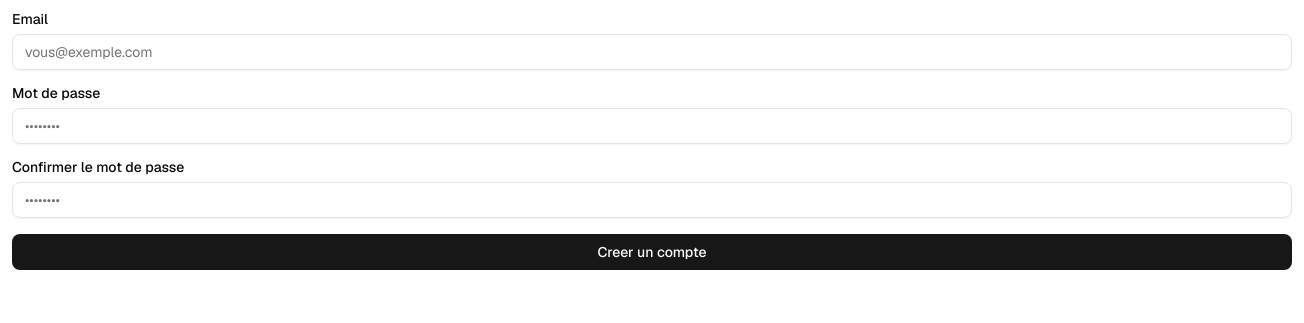
it: RegisterForm › displays error when sign up succeeds but auto-login fails
This screenshot has width=1304, height=323.
Type "test@example.com" into the field labelled "Email".
click(652, 52); type("test@example.com")  # box [12, 34, 1292, 70]
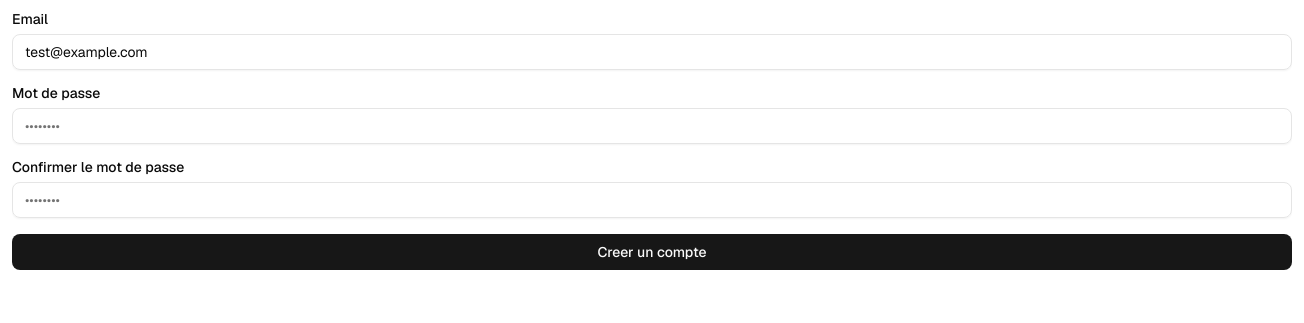
Type "password123" into the password field labelled "Mot de passe".
click(652, 126); type("password123")  # box [12, 108, 1292, 144]
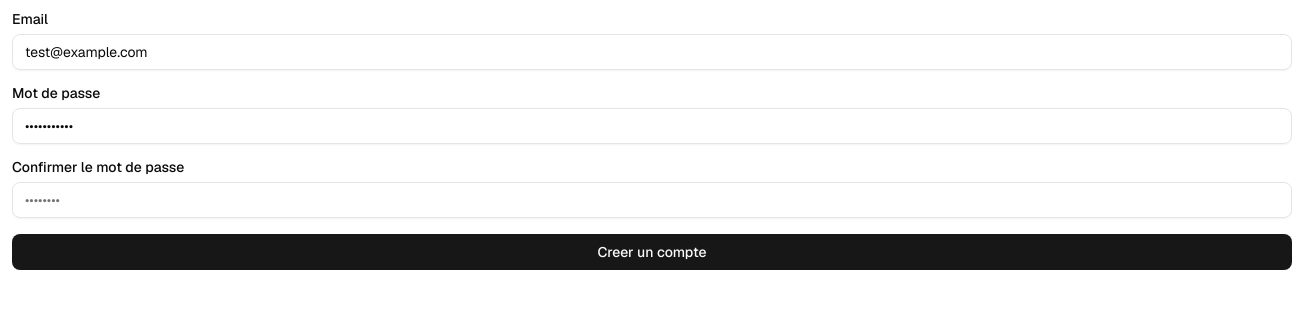
Type "password123" into the password field labelled "Confirmer le mot de passe".
click(652, 200); type("password123")  # box [12, 182, 1292, 218]
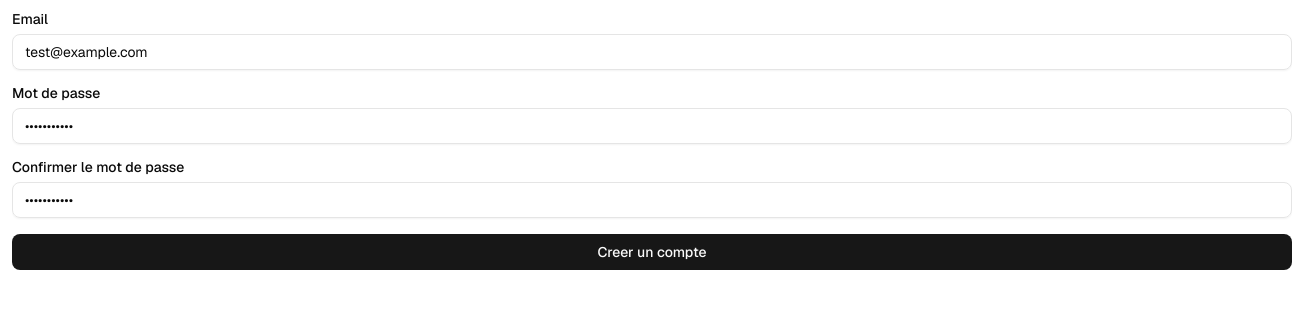
Click the button "Creer un compte".
click(652, 252)  # box [12, 234, 1292, 270]
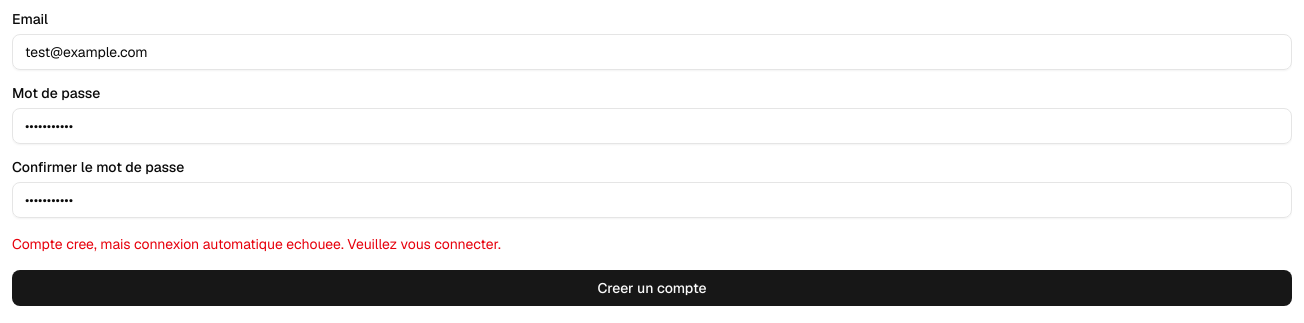
Check: the text "Compte cree, mais connexion automatique echouee. Veuillez vous connecter." is shown, box [12, 235, 501, 253]
